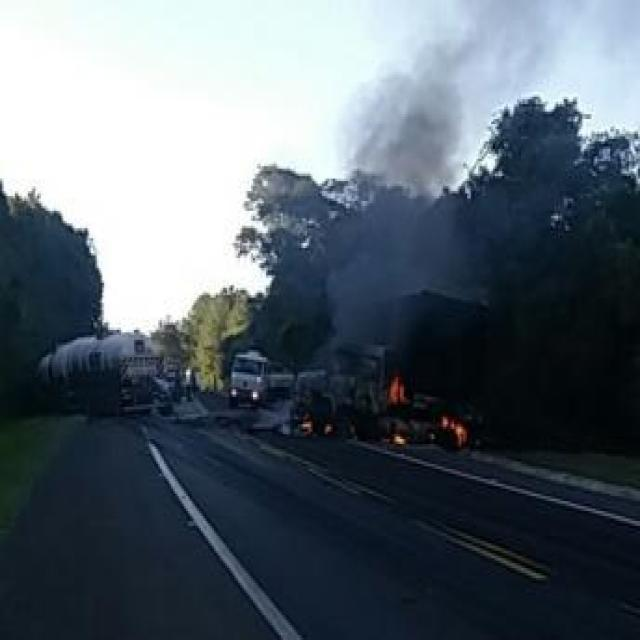Fire: (432, 412, 471, 444), (379, 372, 412, 402)
Smoke: (318, 0, 561, 365), (336, 36, 496, 300)
